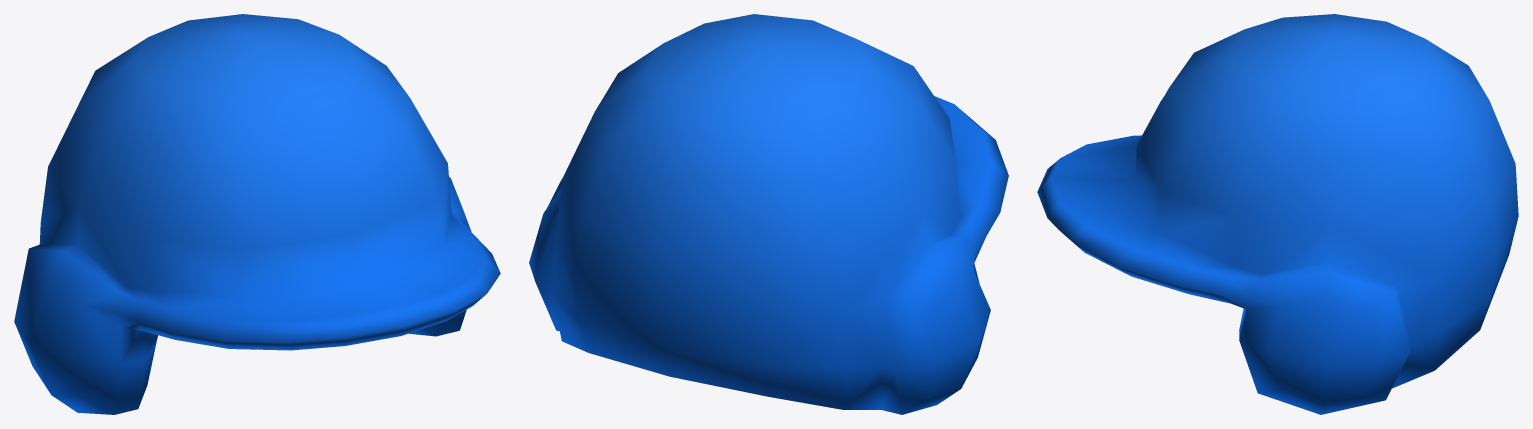
The model's file is Headgear_50.fbx.
The picture shows the model from 3 angles, left to right: view 1: azimuth 30°, elevation 25°; view 2: azimuth 150°, elevation 25°; view 3: azimuth 270°, elevation 25°; orthographic projection. The views are drawn at different scales.
Parts seen in each view (by area): view 1: Headgear_50; view 2: Headgear_50; view 3: Headgear_50.
Part boxes in pixels (x1,y1,x2,y2): Headgear_50: (14,14,500,414); Headgear_50: (529,14,1008,414); Headgear_50: (1037,14,1518,414).
Size of the model in its own units: 75.92 by 54.22 by 78.51.
